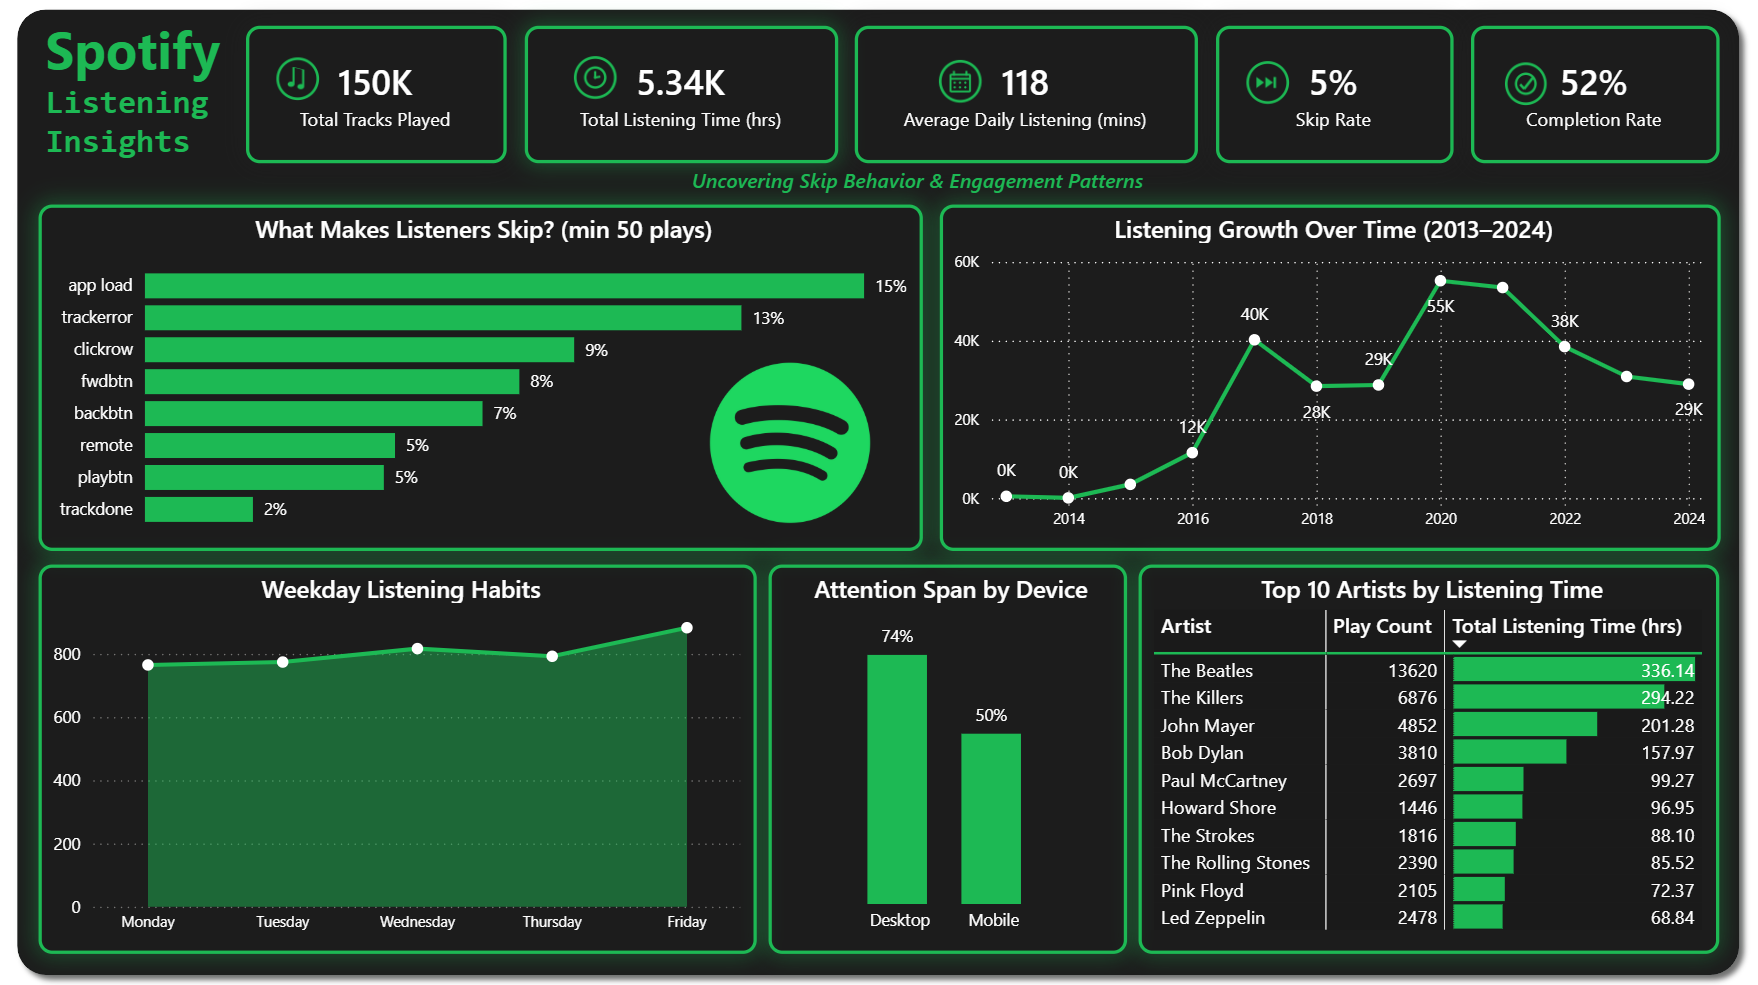

The page's visual inventory and layout, read from the dashboard file:
{"tool":"powerbi","page":{"name":"Dashboard","canvas":[1280,720],"ordinal":0},"visuals":[{"type":"shape","box":[9.7,0,1270.4,720.2],"z":0},{"type":"cardVisual","fields":{"Data":["Measures Table.Total Listening Time (hrs)"]},"box":[387.9,21,228,100.1],"z":1000},{"type":"cardVisual","fields":{"Data":["Measures Table.Skip Rate"]},"box":[891,21.1,172.5,100],"z":2000},{"type":"cardVisual","fields":{"Data":["Measures Table.Completion Rate"]},"box":[1076.1,21.1,181,100.1],"z":3000},{"type":"cardVisual","fields":{"Data":["Measures Table.Average Daily Listening (mins)"]},"box":[628.6,21.1,249.7,100.1],"z":4000},{"type":"cardVisual","fields":{"Data":["Measures Table.Total Tracks Played"]},"box":[185.8,21,189.4,100.1],"z":5000},{"type":"barChart","title":"What Makes Listeners Skip? (min 50 plays)","fields":{"Category":["spotify.reason_start"],"Y":["Measures Table.Skip Rate"]},"box":[35,150.8,643,252.1],"z":6000},{"type":"clusteredColumnChart","title":"Attention Span by Device","fields":{"Y":["Measures Table.Completion Rate"],"Category":["spotify.device_type"]},"box":[565.8,412.6,260.6,283.5],"z":7000},{"type":"lineChart","title":"Listening Growth Over Time (2013–2024)","fields":{"Y":["Sum(spotify.minutes_played)"],"Category":["spotify.date_only.Variation.Date Hierarchy.Year"]},"box":[690.1,150.8,568.2,252.1],"z":8000},{"type":"tableEx","title":"Top 10 Artists by Listening Time","fields":{"Values":["spotify.artist_name","Measures Table.Play Count","Measures Table.Total Listening Time (hrs)"]},"box":[834.9,412.6,422.3,283.5],"z":9000},{"type":"stackedAreaChart","title":"Weekday Listening Habits","fields":{"Category":["spotify.day_of_week"],"Y":["Measures Table.Total Listening Time (hrs)"]},"box":[35,412.6,522.4,283.5],"z":10000},{"type":"image","box":[522.4,261.8,117,124.3],"z":11000},{"type":"textbox","box":[504.3,118.2,346.2,32.6],"z":12000},{"type":"image","box":[205.1,42.2,35,35],"z":13000},{"type":"image","box":[422.3,41,35,35],"z":14000},{"type":"image","box":[687.7,43.4,35,35],"z":15000},{"type":"image","box":[910.9,44.6,35,35],"z":16000},{"type":"image","box":[1097.9,45.8,36.2,35],"z":17000},{"type":"textbox","box":[35,7.2,139.9,132.7],"z":18000}]}

Visuals, with their boxes in screenshot pixels (x1, y1, x2, y2), scaled from the page's 1280x720 canvas onto the 1758x985 screenshot:
shape: region(13, 0, 1757, 984)
cardVisual - Measures Table.Total Listening Time (hrs): region(533, 29, 846, 166)
cardVisual - Measures Table.Skip Rate: region(1224, 29, 1461, 166)
cardVisual - Measures Table.Completion Rate: region(1478, 29, 1727, 166)
cardVisual - Measures Table.Average Daily Listening (mins): region(863, 29, 1206, 166)
cardVisual - Measures Table.Total Tracks Played: region(255, 29, 515, 166)
"What Makes Listeners Skip? (min 50 plays)" barChart: region(48, 206, 931, 551)
"Attention Span by Device" clusteredColumnChart: region(777, 564, 1135, 952)
"Listening Growth Over Time (2013–2024)" lineChart: region(948, 206, 1728, 551)
"Top 10 Artists by Listening Time" tableEx: region(1147, 564, 1727, 952)
"Weekday Listening Habits" stackedAreaChart: region(48, 564, 766, 952)
image: region(717, 358, 878, 528)
textbox: region(693, 162, 1168, 206)
image: region(282, 58, 330, 106)
image: region(580, 56, 628, 104)
image: region(945, 59, 993, 107)
image: region(1251, 61, 1299, 109)
image: region(1508, 63, 1558, 111)
textbox: region(48, 10, 240, 191)
